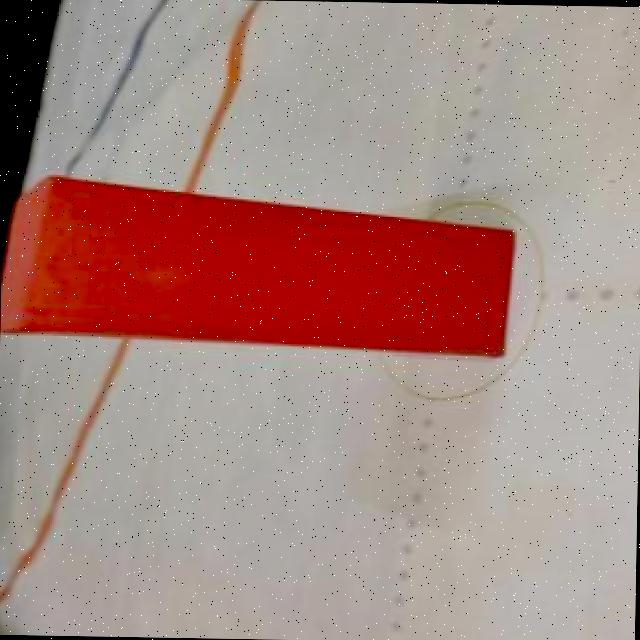redbox: (0, 174, 515, 359)
